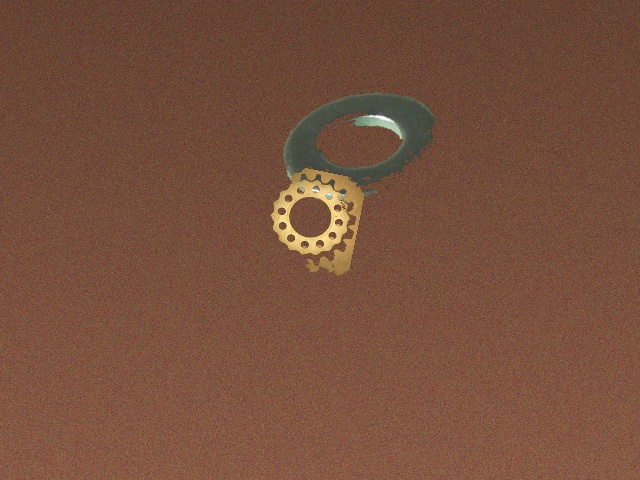gear: (270, 168, 364, 275)
washer: (282, 92, 440, 203)
